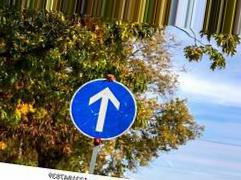forward: (68, 79, 138, 141)
